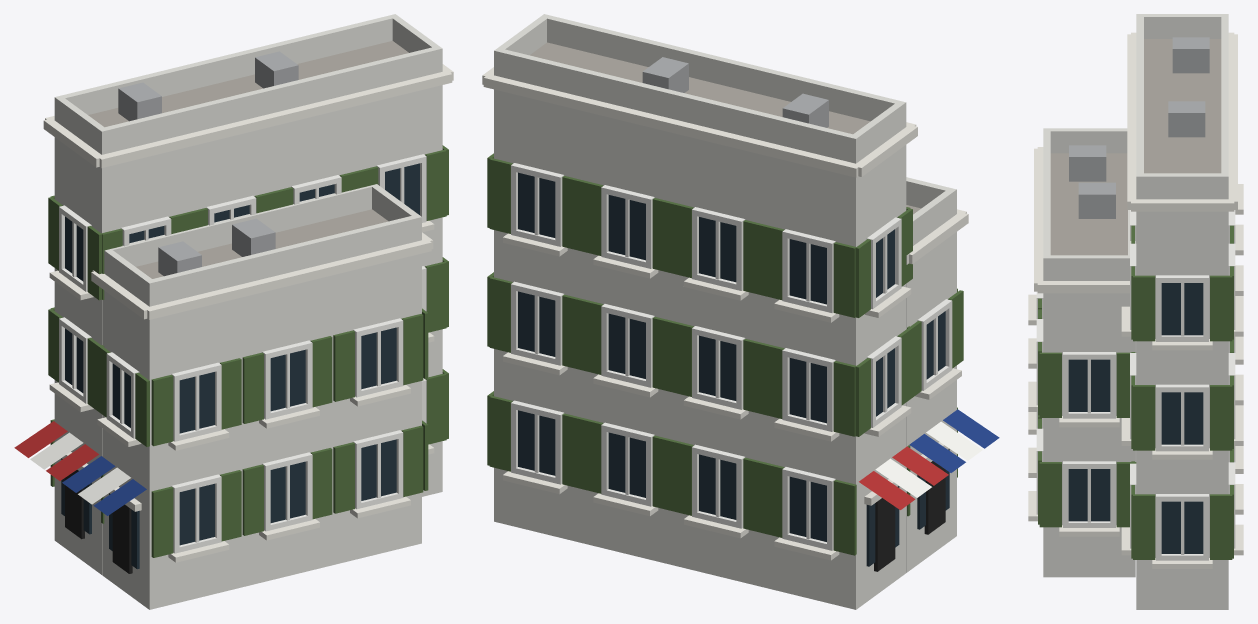
The picture shows the model from 3 angles, left to right: view 1: azimuth 30°, elevation 25°; view 2: azimuth 150°, elevation 25°; view 3: azimuth 270°, elevation 25°; orthographic projection. The views are drawn at different scales.
Parts seen in each view (by area): view 1: b10003; view 2: b10003; view 3: b10003.
Part boxes in pixels (box(x1,y1,x2,y2)): b10003: box(14, 14, 453, 609); b10003: box(482, 14, 999, 609); b10003: box(1028, 14, 1243, 609).
Size of the model in its own units: 4804 by 5182 by 2319.
